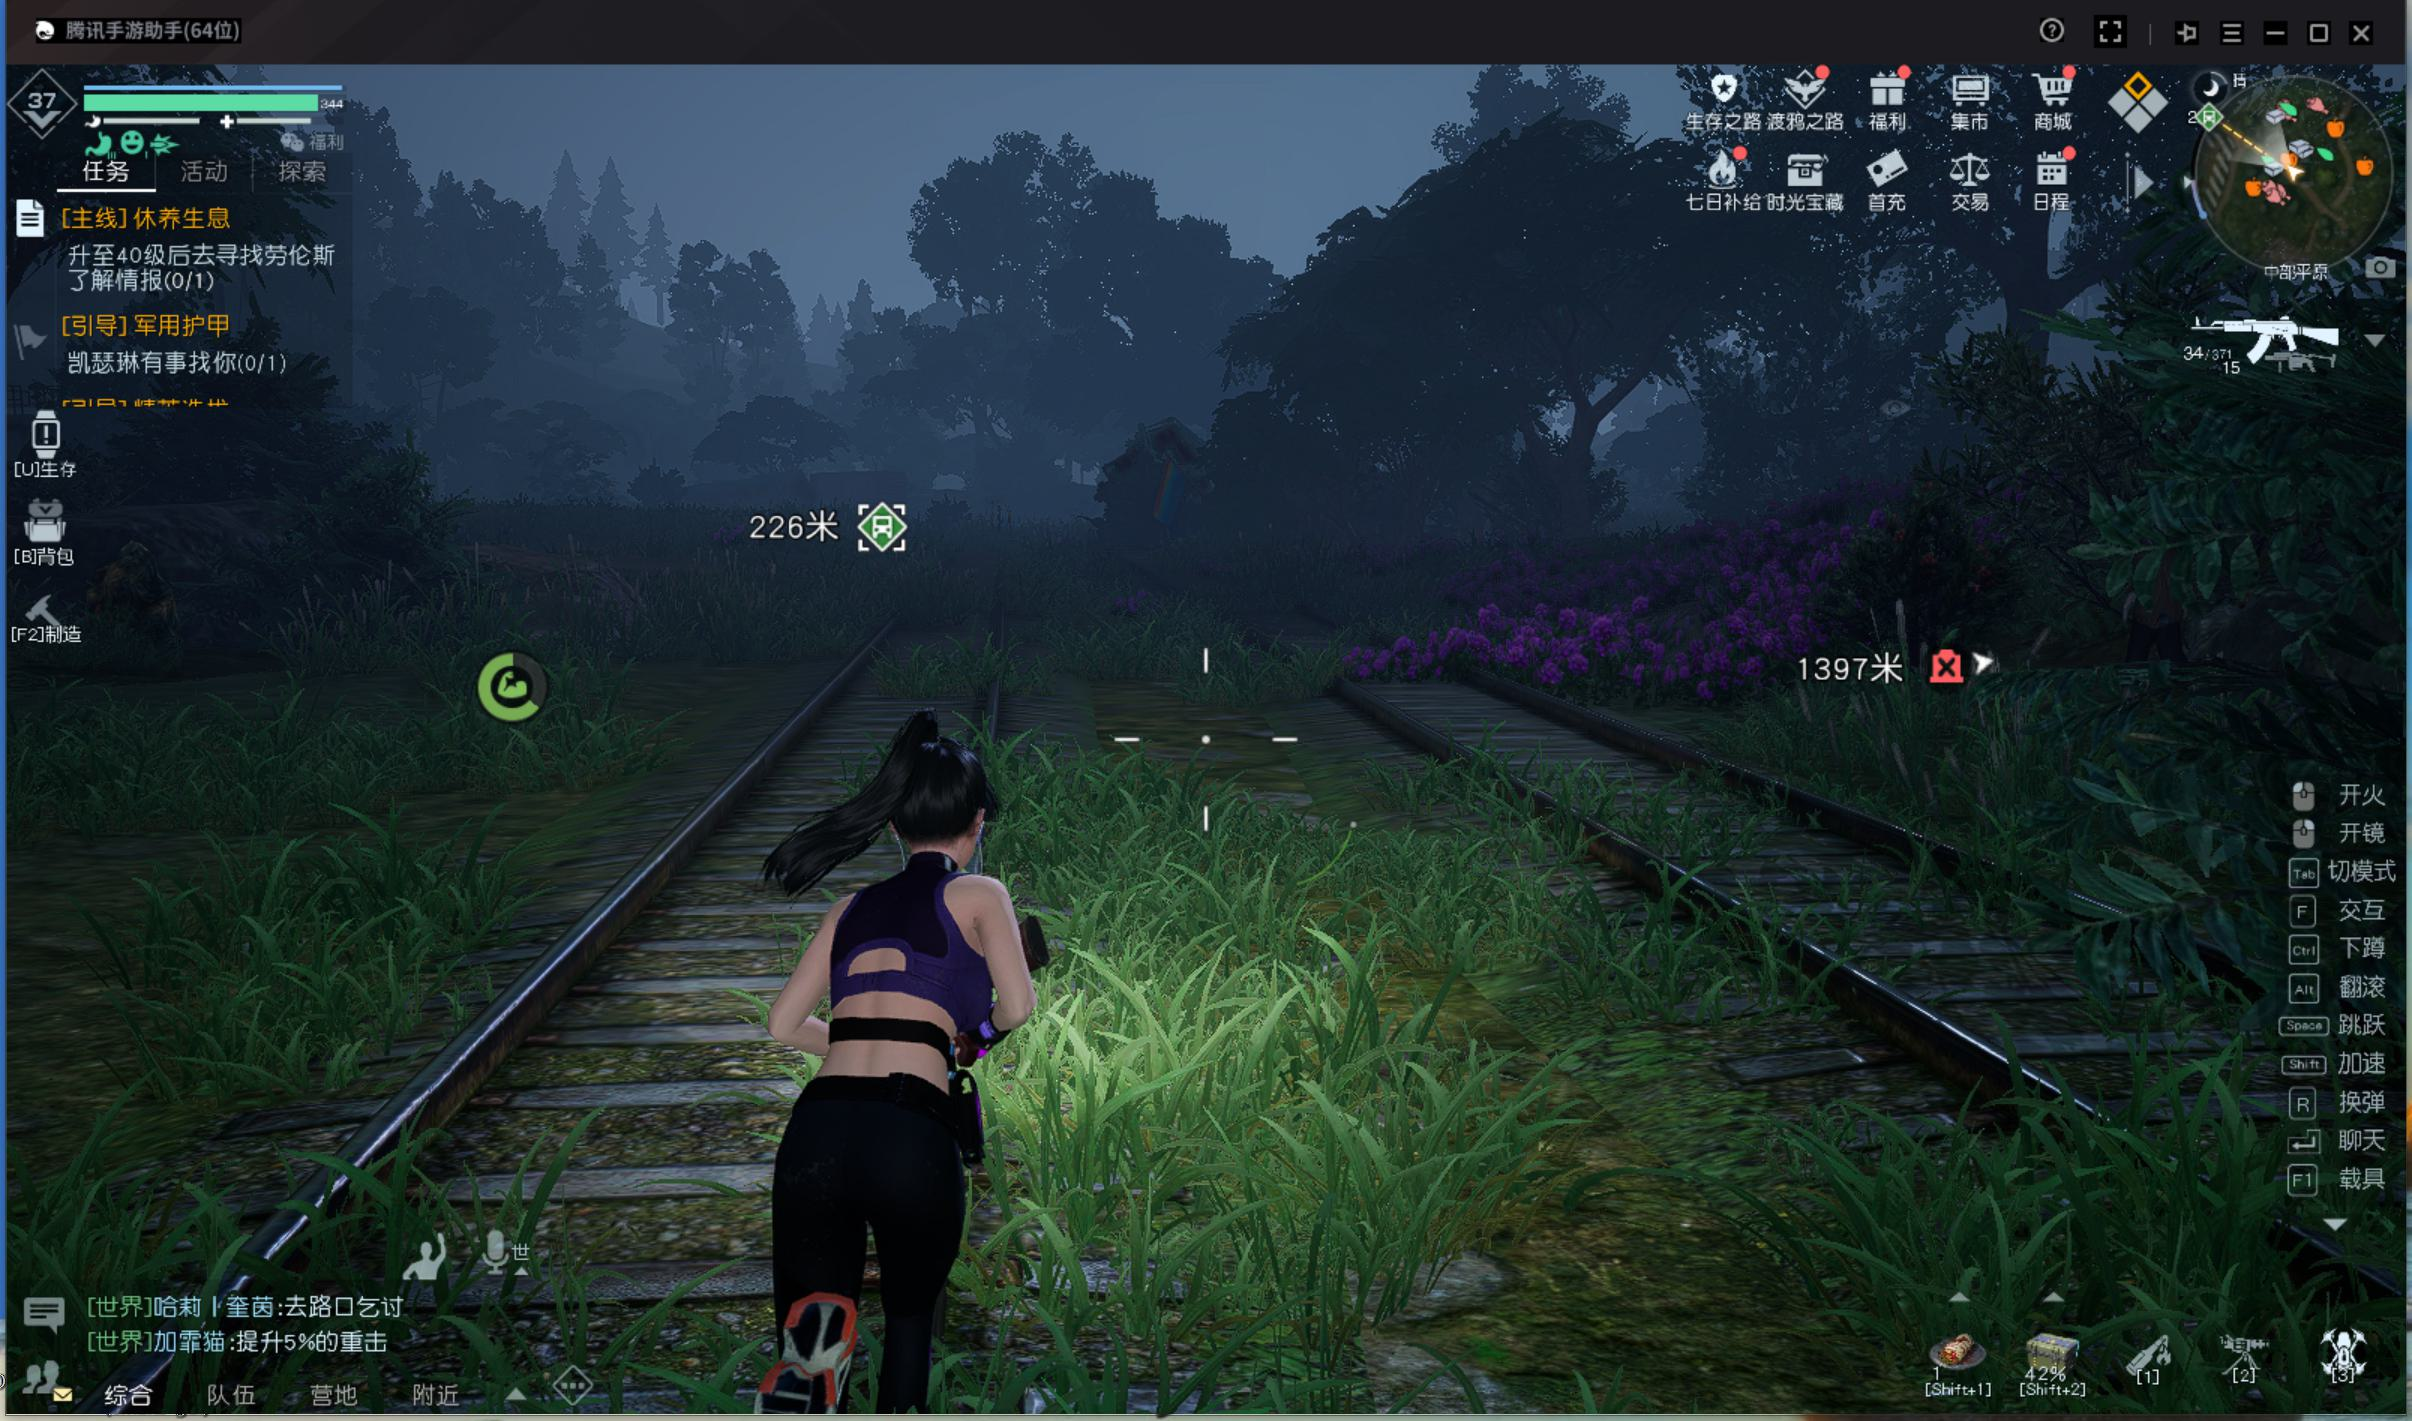tree: (1982, 289, 2047, 506)
